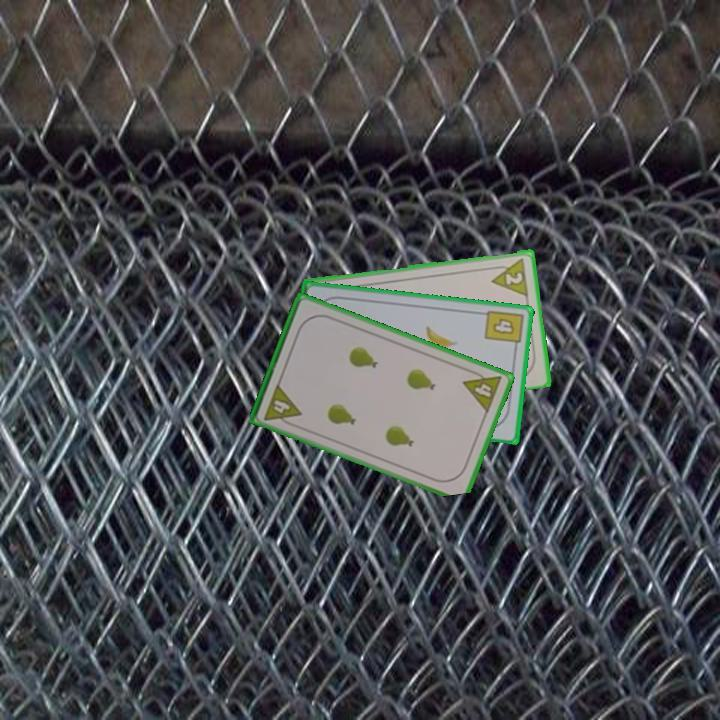2p: (487, 254, 531, 298)
4b: (481, 306, 526, 353)
4p: (460, 365, 505, 416), (261, 380, 304, 430)
